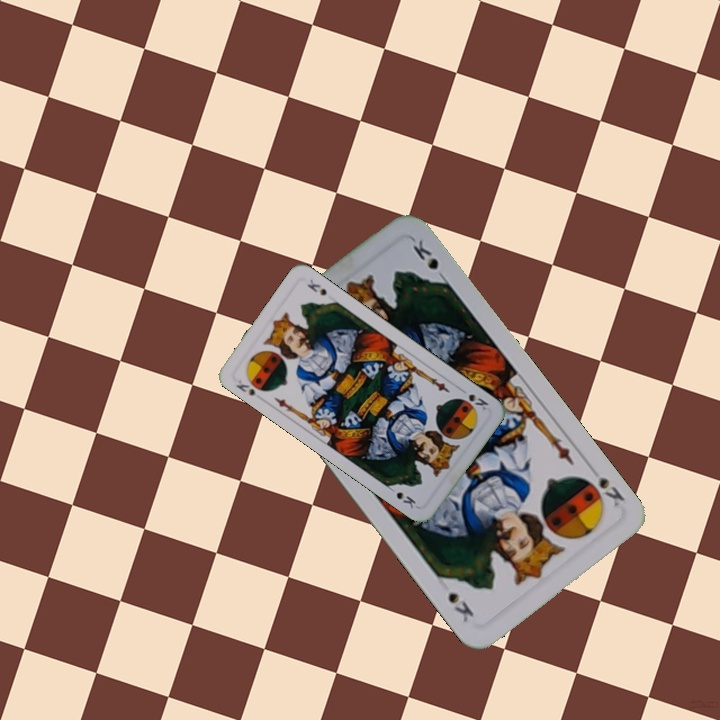SK: (577, 471, 628, 511), (455, 390, 491, 413), (232, 376, 258, 399)
